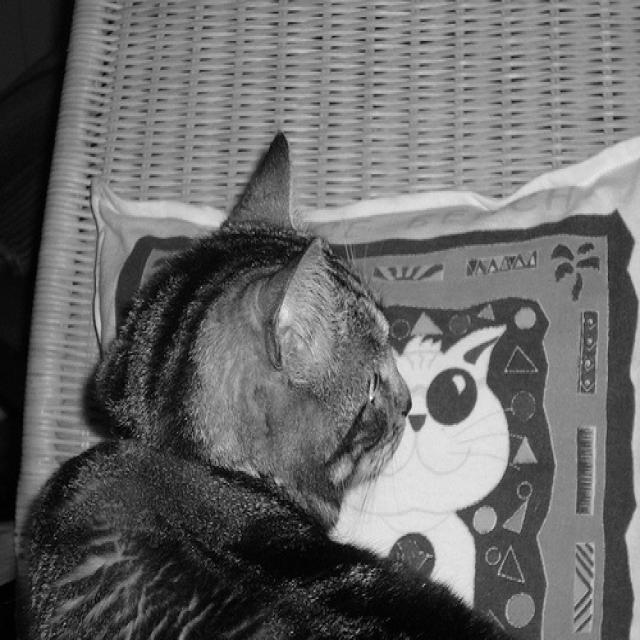cat: (17, 128, 510, 638)
